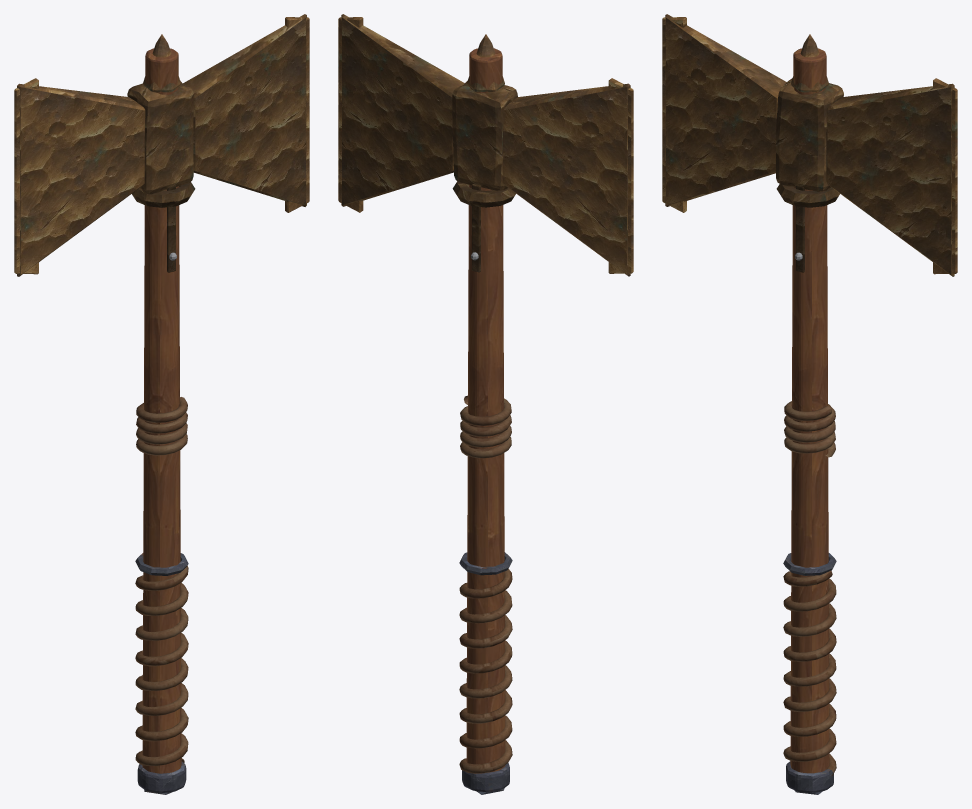
File: axe_2h_bronze.glb
The picture shows the model from 3 angles, left to right: view 1: azimuth 30°, elevation 25°; view 2: azimuth 150°, elevation 25°; view 3: azimuth 330°, elevation 25°; orthographic projection.
Visible parts, largest first — view 1: model; view 2: model; view 3: model.
Boxes of the visible parts, x1,y1,x2,y2 form: model: [14, 14, 309, 794]; model: [338, 14, 633, 794]; model: [662, 14, 957, 794].
Bounding box in the file's own units: 0.57 × 1.4 × 0.112.
Materials: 9 (8 with a texture image).
